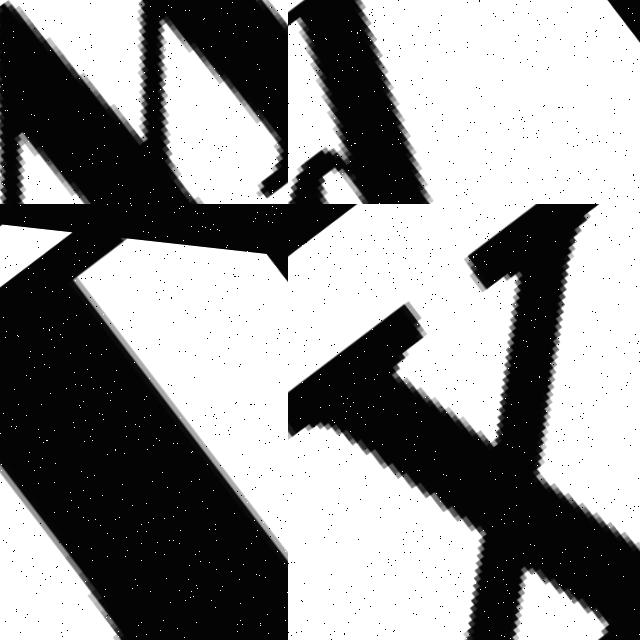P: (288, 0, 439, 204)
R: (0, 204, 288, 640)
W: (0, 0, 288, 204)
X: (288, 204, 640, 640)
